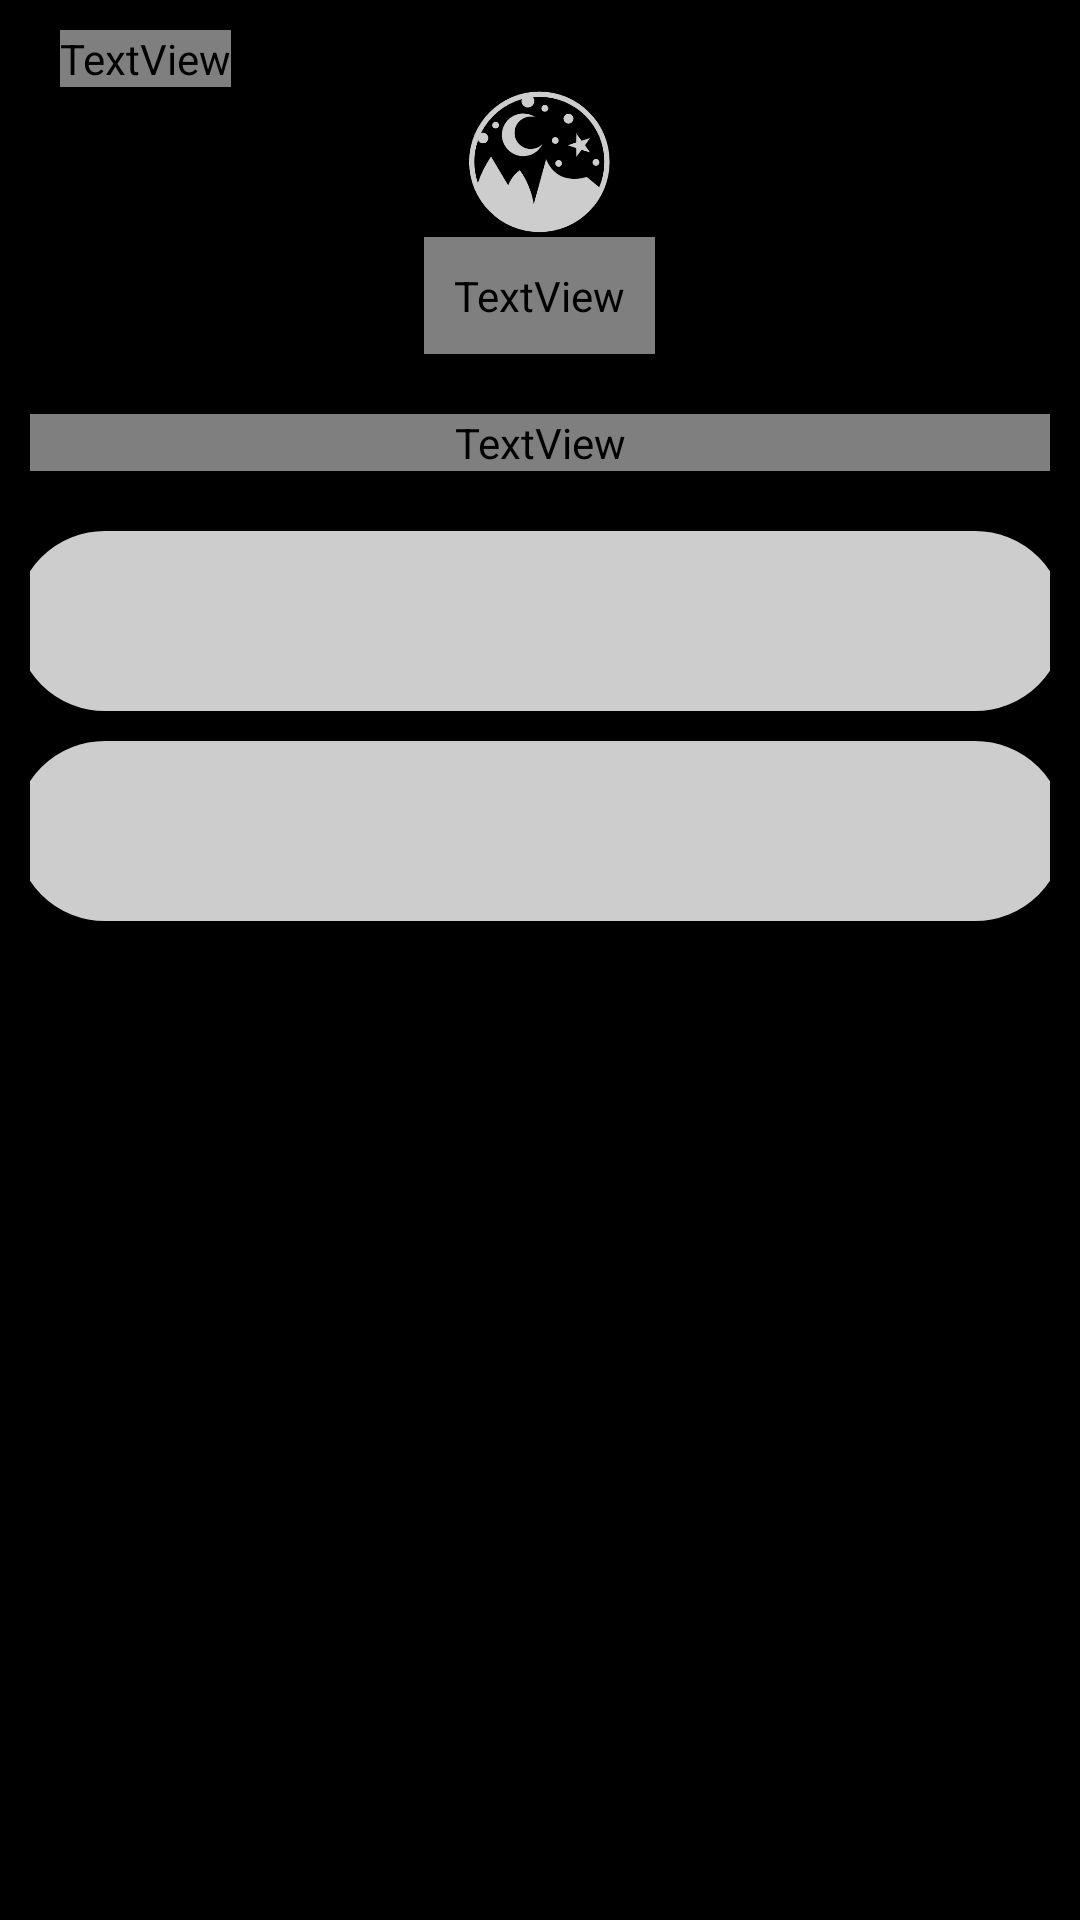

Screen size 1080w x 1920h. Icon name, then its box in pixels as box(x1, y1, x2, y2):
night: box(469, 91, 610, 232)
